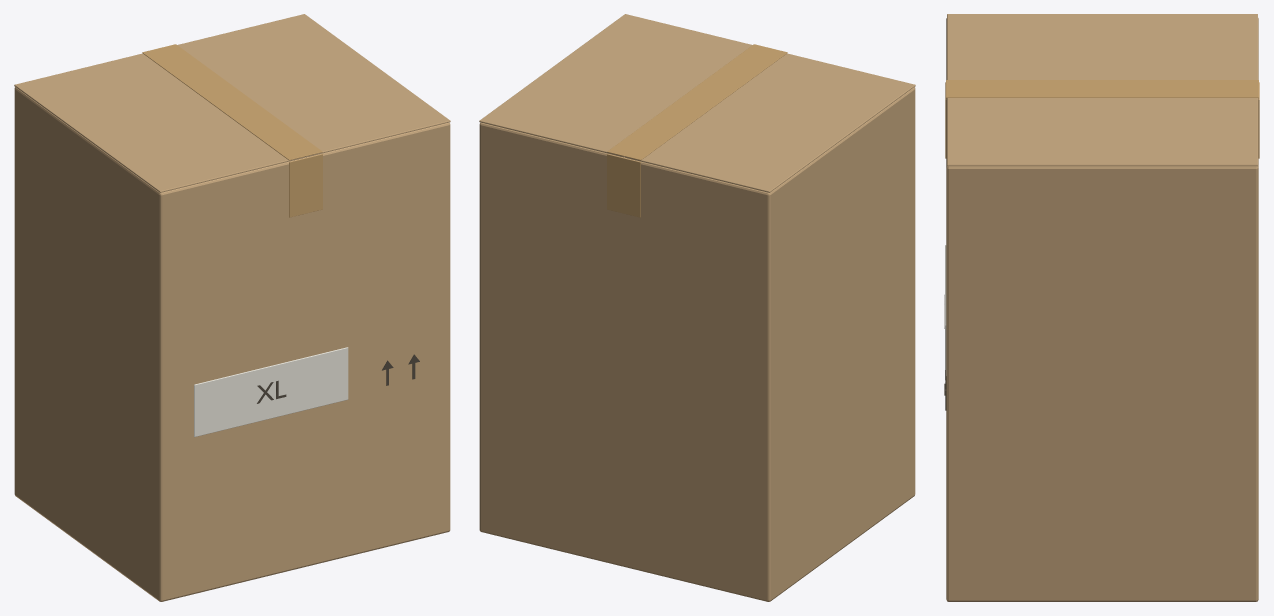
Rendered from box_extra_large.glb.
3 renders of one model, left to right at view 1: azimuth 30°, elevation 25°; view 2: azimuth 150°, elevation 25°; view 3: azimuth 270°, elevation 25°, orthographic. The views are drawn at different scales.
Visible parts, largest first — view 1: Extra-large tall carton closed carton, Extra-large tall carton top flap, Extra-large tall carton top flap.001, Extra-large tall carton shipping label, Extra-large tall carton top tape, Extra-large tall carton tape down side; view 2: Extra-large tall carton closed carton, Extra-large tall carton top flap, Extra-large tall carton top flap.001, Extra-large tall carton top tape, Extra-large tall carton tape down side.001; view 3: Extra-large tall carton closed carton, Extra-large tall carton top flap.001, Extra-large tall carton top flap, Extra-large tall carton top tape.
Part boxes in pixels (bbox=[...]): Extra-large tall carton closed carton: bbox=[14, 87, 450, 601]; Extra-large tall carton top flap: bbox=[14, 53, 304, 192]; Extra-large tall carton top flap.001: bbox=[177, 14, 450, 157]; Extra-large tall carton shipping label: bbox=[194, 347, 348, 437]; Extra-large tall carton top tape: bbox=[142, 44, 322, 160]; Extra-large tall carton tape down side: bbox=[289, 154, 322, 217]; Extra-large tall carton closed carton: bbox=[479, 87, 915, 601]; Extra-large tall carton top flap: bbox=[625, 53, 915, 192]; Extra-large tall carton top flap.001: bbox=[479, 14, 752, 157]; Extra-large tall carton top tape: bbox=[607, 44, 787, 160]; Extra-large tall carton tape down side.001: bbox=[607, 154, 640, 217]; Extra-large tall carton closed carton: bbox=[946, 18, 1258, 601]; Extra-large tall carton top flap.001: bbox=[947, 98, 1257, 166]; Extra-large tall carton top flap: bbox=[947, 14, 1257, 79]; Extra-large tall carton top tape: bbox=[946, 80, 1258, 97].
Bounding box in the file's own units: 0.55 × 0.7442 × 0.4846.
